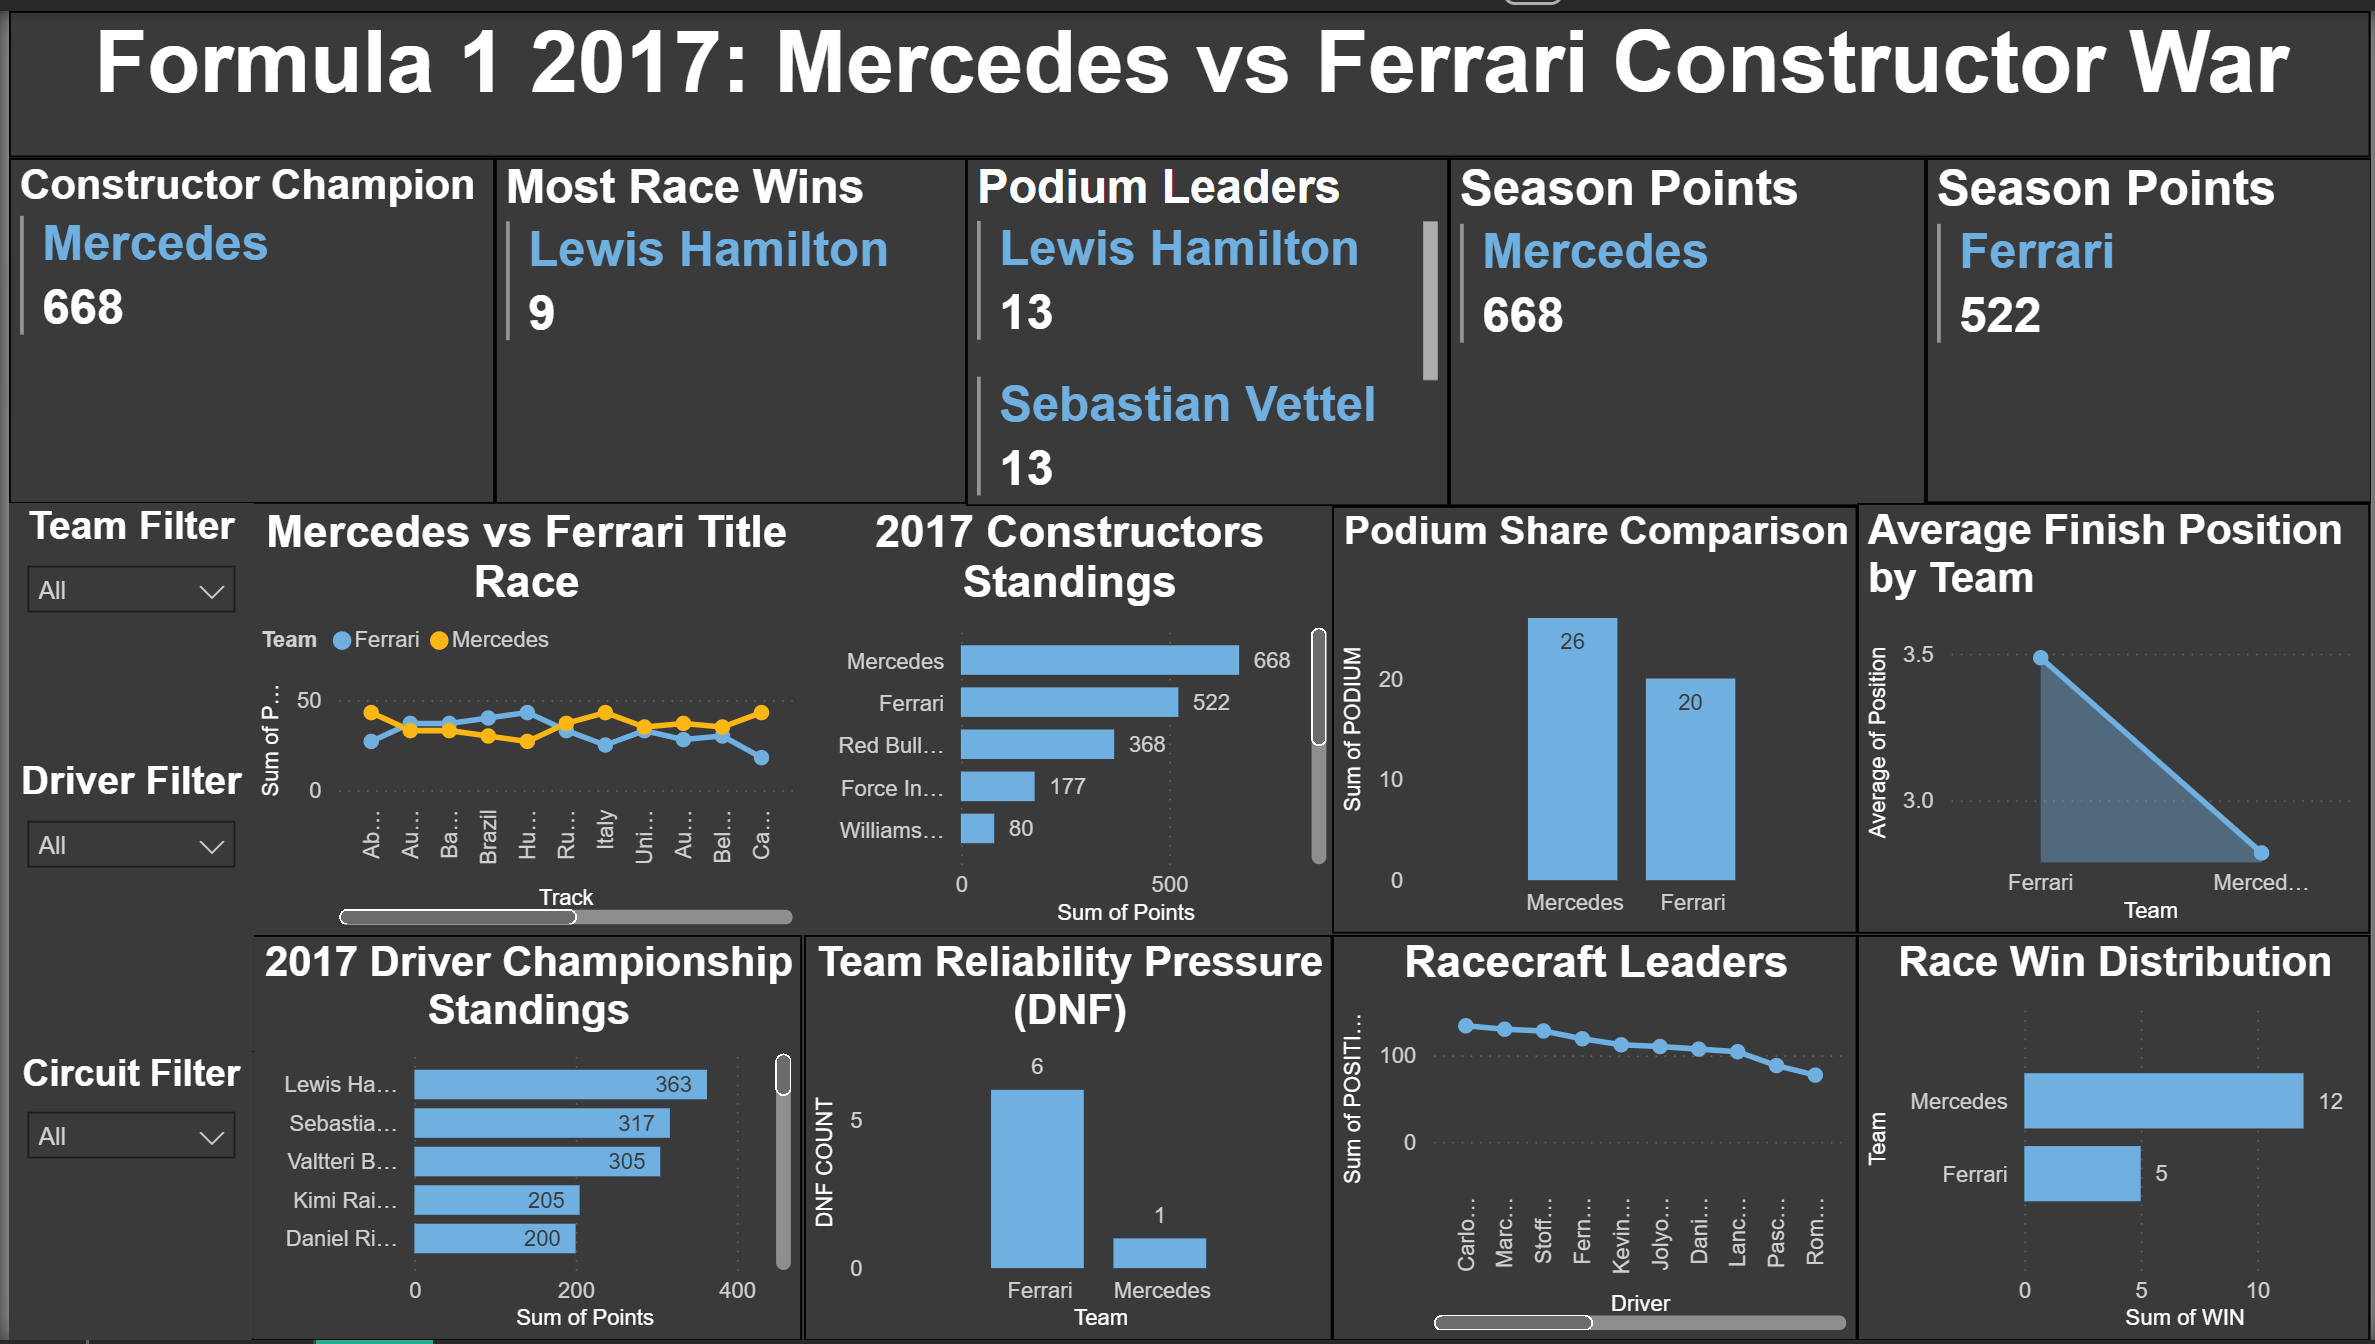

The page's visual inventory and layout, read from the dashboard file:
{"tool":"powerbi","page":{"name":"Page 1","canvas":[1280,720],"ordinal":0},"visuals":[{"type":"multiRowCard","title":"Constructor Champion","fields":{"Values":["F1_2017.Team","Sum(F1_2017.Points)"]},"box":[0,79.5,263.2,187.5],"z":0},{"type":"multiRowCard","title":"Season Points","fields":{"Values":["F1_2017.Team","Sum(F1_2017.Points)"]},"box":[1037.8,79.4,241.7,187],"z":1000},{"type":"multiRowCard","title":"Season Points","fields":{"Values":["F1_2017.Team","Sum(F1_2017.Points)"]},"box":[779.6,79.4,258.2,188.7],"z":2000},{"type":"multiRowCard","title":"Most Race Wins","fields":{"Values":["F1_2017.Driver","Sum(F1_2017.WIN)"]},"box":[263.2,79.5,255.6,187.5],"z":3000},{"type":"multiRowCard","title":"Podium Leaders","fields":{"Values":["F1_2017.Driver","Sum(F1_2017.PODIUM)"]},"box":[518.1,79.4,261.5,188.7],"z":4000},{"type":"lineChart","title":"Mercedes vs Ferrari Title Race","fields":{"Category":["F1_2017.Track"],"Y":["Sum(F1_2017.Points)"],"Series":["F1_2017.Team"]},"box":[132.4,268.1,297.9,231.7],"z":5000},{"type":"clusteredBarChart","title":"2017 Constructors Standings","fields":{"Category":["F1_2017.Team"],"Y":["Sum(F1_2017.Points)"]},"box":[430.3,268.1,288,231.7],"z":6000},{"type":"clusteredBarChart","title":"2017 Driver Championship Standings","fields":{"Category":["F1_2017.Driver"],"Y":["Sum(F1_2017.Points)"]},"box":[132.4,499.9,297.9,220.1],"z":7000},{"type":"columnChart","title":"Team Reliability Pressure (DNF)","fields":{"Category":["F1_2017.Team"],"Y":["F1_2017.DNF COUNT"]},"box":[430.3,499.9,286.3,220.1],"z":8000},{"type":"columnChart","title":"Podium Share Comparison","fields":{"Category":["F1_2017.Team"],"Y":["Sum(F1_2017.PODIUM)"]},"box":[716.7,268.1,284.7,231.7],"z":9000},{"type":"lineChart","title":"Racecraft Leaders","fields":{"Category":["F1_2017.Driver"],"Y":["Sum(F1_2017.POSITION GAIN)"]},"box":[716.7,499.9,284.7,220.1],"z":10000},{"type":"barChart","title":"Race Win Distribution","fields":{"Category":["F1_2017.Team"],"Y":["Sum(F1_2017.WIN)"]},"box":[1001.4,499.9,278.1,220.1],"z":11000},{"type":"areaChart","title":"Average Finish Position by Team","fields":{"Category":["F1_2017.Team"],"Y":["Avg(F1_2017.Position)"]},"box":[1001.4,266.5,278.1,233.4],"z":12000},{"type":"slicer","title":"Team Filter","fields":{"Values":["F1_2017.Team"]},"box":[0,267,132.5,136.3],"z":12001},{"type":"slicer","title":"Driver Filter","fields":{"Values":["F1_2017.Driver"]},"box":[0,405.2,132.5,159.1],"z":12002},{"type":"slicer","title":"Circuit Filter","fields":{"Values":["F1_2017.Track"]},"box":[0,564.3,132.5,155.3],"z":12003},{"type":"shape","title":"Formula 1 2017: Mercedes vs Ferrari Constructor War","box":[0,0,1279.4,79.4],"z":12004}]}

Visuals, with their boxes in screenshot pixels (x1, y1, x2, y2), scaled from the page's 1280x720 canvas onto the 2375x1344 screenshot:
"Constructor Champion" multiRowCard: bbox=(0, 148, 488, 498)
"Season Points" multiRowCard: bbox=(1926, 148, 2374, 497)
"Season Points" multiRowCard: bbox=(1447, 148, 1926, 500)
"Most Race Wins" multiRowCard: bbox=(488, 148, 963, 498)
"Podium Leaders" multiRowCard: bbox=(961, 148, 1447, 500)
"Mercedes vs Ferrari Title Race" lineChart: bbox=(246, 500, 798, 933)
"2017 Constructors Standings" clusteredBarChart: bbox=(798, 500, 1333, 933)
"2017 Driver Championship Standings" clusteredBarChart: bbox=(246, 933, 798, 1343)
"Team Reliability Pressure (DNF)" columnChart: bbox=(798, 933, 1330, 1343)
"Podium Share Comparison" columnChart: bbox=(1330, 500, 1858, 933)
"Racecraft Leaders" lineChart: bbox=(1330, 933, 1858, 1343)
"Race Win Distribution" barChart: bbox=(1858, 933, 2374, 1343)
"Average Finish Position by Team" areaChart: bbox=(1858, 497, 2374, 933)
"Team Filter" slicer: bbox=(0, 498, 246, 753)
"Driver Filter" slicer: bbox=(0, 756, 246, 1053)
"Circuit Filter" slicer: bbox=(0, 1053, 246, 1343)
"Formula 1 2017: Mercedes vs Ferrari Constructor War" shape: bbox=(0, 0, 2374, 148)
